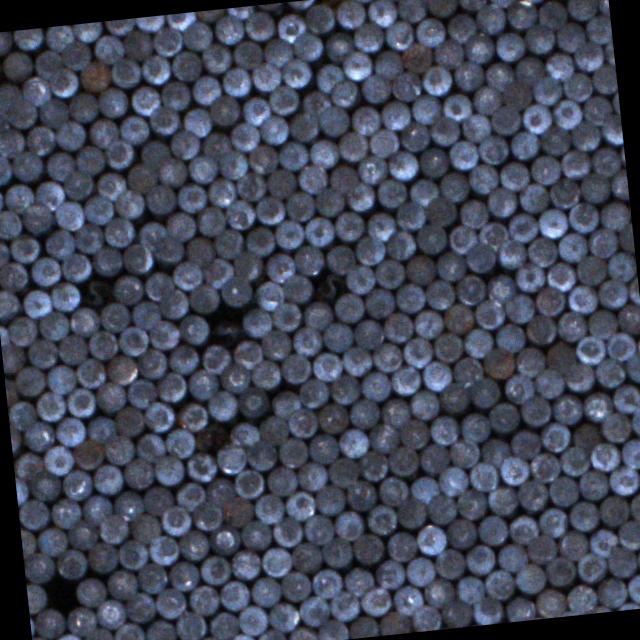tool: (126, 122, 180, 173), (34, 138, 90, 186), (562, 408, 610, 457), (542, 335, 578, 373), (323, 160, 360, 196), (422, 574, 458, 610), (388, 582, 426, 616), (413, 521, 448, 557), (103, 352, 139, 387), (323, 240, 358, 276), (368, 46, 403, 82), (106, 54, 142, 89), (90, 30, 125, 66), (19, 418, 56, 452), (173, 398, 210, 432), (308, 565, 343, 600), (260, 543, 294, 579), (350, 532, 386, 566), (382, 528, 418, 562), (96, 510, 130, 546), (88, 462, 124, 496), (543, 554, 577, 590), (474, 512, 508, 548), (504, 512, 540, 546), (185, 366, 221, 400), (242, 222, 276, 258), (482, 345, 516, 381), (432, 248, 468, 282), (346, 103, 382, 137), (154, 154, 190, 188), (128, 82, 164, 116), (138, 52, 174, 86), (250, 194, 286, 228), (263, 166, 299, 200), (315, 104, 351, 138), (241, 9, 277, 43), (263, 464, 300, 497), (340, 564, 378, 596), (267, 598, 302, 632), (247, 574, 282, 608), (166, 557, 200, 592), (319, 534, 354, 568), (207, 522, 242, 556), (363, 502, 398, 536), (126, 509, 160, 544), (386, 443, 421, 477), (574, 550, 609, 584), (546, 473, 581, 507), (456, 410, 491, 444), (52, 414, 86, 449), (234, 384, 269, 418), (268, 386, 302, 421), (357, 368, 392, 402), (389, 361, 423, 396), (165, 343, 200, 377), (380, 310, 415, 344), (300, 296, 334, 331), (110, 272, 145, 306), (363, 208, 398, 242), (453, 271, 488, 305), (383, 228, 418, 262), (476, 218, 510, 253), (537, 122, 572, 156), (530, 72, 564, 107), (322, 29, 357, 63), (85, 115, 120, 149), (94, 84, 129, 118), (239, 516, 272, 552), (269, 514, 305, 547), (598, 411, 634, 444), (92, 380, 128, 413), (308, 349, 344, 382), (362, 286, 398, 319), (472, 1, 508, 34), (178, 105, 214, 138), (298, 593, 332, 627), (134, 560, 168, 594), (198, 552, 232, 586), (228, 546, 262, 580), (444, 516, 478, 550), (54, 547, 88, 581), (85, 540, 119, 574), (394, 496, 428, 530), (424, 492, 458, 526), (252, 492, 286, 526), (344, 478, 378, 512), (48, 494, 82, 528), (28, 468, 62, 502), (60, 467, 94, 501), (121, 456, 155, 490), (437, 382, 471, 416), (606, 546, 640, 580), (526, 532, 560, 566), (566, 498, 600, 532), (455, 486, 489, 520), (486, 398, 520, 432), (20, 286, 54, 320), (142, 400, 176, 434), (328, 372, 362, 406), (229, 337, 263, 371), (260, 327, 294, 361), (320, 320, 354, 354), (332, 290, 366, 324), (400, 335, 434, 369), (494, 320, 528, 354), (554, 308, 588, 342), (586, 224, 620, 258), (445, 138, 479, 172), (458, 110, 492, 144), (550, 96, 584, 130), (378, 97, 412, 131), (438, 90, 472, 124), (482, 58, 516, 92), (540, 48, 574, 82), (462, 30, 496, 64), (102, 214, 136, 248), (1, 181, 35, 215), (32, 178, 66, 212), (10, 148, 44, 182), (117, 112, 151, 146), (204, 175, 238, 209), (186, 152, 220, 186), (306, 135, 340, 169), (219, 64, 253, 98), (248, 58, 282, 92), (120, 26, 154, 60), (190, 499, 225, 532), (408, 386, 441, 421), (517, 393, 552, 426), (28, 254, 63, 287), (493, 236, 528, 269), (524, 235, 559, 268), (356, 584, 392, 616), (156, 504, 192, 536), (368, 340, 404, 372), (518, 102, 554, 134), (80, 192, 116, 224), (500, 592, 538, 622), (105, 566, 138, 600), (289, 540, 322, 574), (115, 536, 148, 570), (177, 528, 210, 562), (332, 506, 365, 540), (396, 416, 430, 449), (41, 442, 74, 476), (471, 592, 504, 626), (482, 567, 516, 600), (496, 541, 530, 574), (597, 494, 630, 528), (516, 478, 550, 511), (549, 392, 582, 426), (153, 370, 187, 403), (218, 361, 252, 394), (350, 316, 384, 349), (262, 250, 296, 283), (90, 244, 124, 277), (120, 241, 154, 274), (183, 232, 216, 266), (300, 215, 334, 248), (421, 358, 454, 392), (430, 330, 464, 363), (442, 300, 475, 334), (596, 276, 629, 310), (424, 278, 457, 312), (544, 259, 578, 292), (516, 180, 550, 213), (548, 176, 582, 209), (385, 149, 419, 182), (419, 64, 453, 97), (144, 182, 178, 215), (76, 59, 110, 92), (246, 141, 280, 174), (167, 127, 201, 160), (208, 92, 242, 125), (274, 11, 308, 44), (29, 46, 62, 80), (438, 597, 473, 629), (416, 441, 451, 473), (315, 400, 350, 432), (175, 312, 210, 344), (200, 256, 235, 288), (402, 252, 437, 284), (372, 176, 407, 208), (396, 120, 431, 152), (431, 38, 466, 70), (7, 232, 42, 264), (20, 202, 55, 234), (297, 86, 332, 118), (0, 48, 32, 83), (33, 607, 66, 640), (187, 582, 220, 615), (36, 523, 69, 556), (366, 421, 399, 454), (348, 396, 381, 429), (534, 585, 567, 618), (486, 483, 519, 516), (49, 280, 82, 313), (59, 249, 92, 282), (68, 305, 101, 338), (514, 344, 547, 377), (394, 281, 427, 314), (436, 169, 469, 202), (528, 152, 561, 185), (451, 59, 484, 92), (572, 39, 605, 72), (552, 19, 585, 52), (124, 161, 157, 194), (148, 103, 181, 136), (66, 90, 99, 123), (19, 73, 52, 106), (194, 204, 227, 237), (212, 12, 245, 45), (180, 18, 213, 51), (206, 608, 240, 640), (64, 604, 98, 636), (434, 546, 466, 580), (464, 542, 496, 576), (73, 576, 107, 608), (283, 488, 315, 522), (313, 484, 347, 516), (376, 474, 410, 506), (17, 498, 51, 530), (110, 486, 144, 518), (296, 459, 330, 491), (152, 454, 186, 486), (185, 448, 217, 482), (244, 438, 276, 472), (307, 432, 341, 464), (70, 438, 104, 470), (378, 394, 412, 426), (564, 582, 598, 614), (454, 572, 486, 606), (588, 439, 622, 471), (508, 426, 542, 458), (468, 376, 502, 408), (532, 367, 566, 399), (562, 362, 596, 394), (592, 356, 626, 388), (8, 313, 40, 347), (84, 412, 118, 444), (34, 388, 66, 422), (64, 386, 98, 418), (277, 352, 311, 384), (42, 362, 76, 394), (200, 340, 232, 374), (54, 332, 88, 364), (187, 282, 221, 314), (218, 275, 252, 307), (462, 326, 496, 358), (574, 253, 608, 285), (596, 199, 630, 231), (454, 196, 488, 228), (498, 160, 532, 192), (336, 129, 368, 163), (408, 92, 442, 124), (327, 76, 361, 108), (492, 30, 526, 62), (112, 187, 146, 219), (54, 118, 86, 152), (312, 186, 346, 218), (176, 180, 208, 214), (276, 138, 308, 172), (286, 108, 318, 142), (158, 78, 192, 110), (170, 49, 204, 81), (150, 24, 184, 56), (447, 437, 482, 468), (499, 79, 534, 110), (173, 608, 206, 640), (237, 603, 270, 635), (153, 586, 186, 618), (218, 578, 250, 611), (280, 569, 312, 602), (374, 556, 406, 589), (404, 554, 437, 586), (65, 518, 98, 550), (222, 494, 255, 526), (326, 455, 359, 487), (356, 449, 388, 482), (213, 442, 246, 474), (427, 412, 460, 444), (103, 432, 136, 464), (595, 576, 628, 608), (514, 561, 546, 594), (558, 527, 590, 560), (577, 468, 610, 500), (538, 420, 571, 452), (580, 389, 612, 422), (38, 309, 70, 342), (296, 376, 329, 408), (124, 376, 156, 409), (249, 357, 281, 390), (115, 324, 148, 356), (129, 298, 162, 330), (212, 225, 244, 258), (586, 306, 618, 339), (473, 298, 506, 330), (532, 284, 565, 316), (566, 282, 599, 314), (484, 269, 516, 302), (556, 231, 588, 264), (506, 210, 538, 243), (536, 205, 568, 238), (393, 199, 426, 231), (343, 178, 375, 211), (466, 161, 498, 194), (589, 144, 621, 177), (470, 84, 502, 117), (512, 54, 545, 86), (72, 222, 105, 254), (62, 169, 94, 202), (24, 123, 56, 156), (163, 210, 196, 242), (222, 198, 255, 230), (216, 147, 248, 180), (314, 60, 346, 93), (190, 72, 222, 105), (60, 38, 93, 70), (95, 596, 126, 630), (24, 550, 55, 584), (414, 223, 448, 254), (357, 151, 388, 185), (580, 94, 614, 125), (505, 0, 539, 31), (53, 198, 84, 232), (260, 36, 294, 67), (329, 589, 361, 621), (124, 590, 156, 622), (146, 534, 178, 566), (302, 512, 334, 544), (438, 464, 470, 496), (80, 492, 112, 524), (276, 436, 308, 468), (163, 426, 195, 458), (286, 406, 318, 438), (536, 504, 568, 536), (608, 463, 640, 495), (498, 454, 530, 486), (478, 436, 510, 468), (502, 372, 534, 404), (13, 364, 45, 396), (114, 404, 146, 436), (135, 348, 167, 380), (242, 305, 274, 337), (253, 279, 285, 311), (280, 272, 312, 304), (230, 248, 262, 280), (292, 244, 324, 276), (344, 262, 376, 294), (273, 218, 305, 250), (525, 312, 557, 344), (414, 306, 446, 338), (513, 261, 545, 293), (606, 250, 638, 282), (464, 240, 496, 272), (579, 171, 611, 203), (408, 174, 440, 206), (416, 146, 448, 178), (570, 120, 602, 152), (428, 114, 460, 146), (488, 104, 520, 136), (560, 70, 592, 102), (359, 72, 391, 104), (399, 42, 431, 74), (352, 20, 384, 52), (412, 15, 444, 47), (303, 2, 335, 34), (42, 228, 74, 260), (73, 143, 105, 175), (37, 96, 69, 128), (284, 190, 316, 222), (228, 120, 260, 152), (279, 56, 311, 88), (230, 38, 262, 70), (407, 472, 440, 503), (292, 324, 323, 357), (354, 234, 387, 265), (450, 355, 483, 386), (574, 334, 607, 365), (604, 331, 637, 362), (422, 195, 455, 226), (291, 31, 324, 62), (231, 468, 265, 498), (24, 338, 58, 368), (146, 319, 180, 349), (270, 301, 304, 331), (376, 608, 412, 636), (174, 478, 206, 509), (339, 425, 370, 457), (587, 526, 618, 558), (468, 459, 499, 491), (528, 451, 560, 482), (558, 445, 590, 476), (206, 388, 238, 419), (75, 357, 106, 389), (86, 328, 118, 359), (99, 300, 130, 332), (505, 292, 537, 323), (447, 222, 478, 254), (567, 200, 598, 232), (485, 185, 517, 216), (366, 127, 398, 158), (340, 50, 371, 82), (95, 168, 126, 200), (47, 66, 78, 98), (235, 170, 266, 202), (296, 163, 328, 194), (257, 113, 289, 144), (239, 94, 271, 125), (201, 42, 232, 74), (202, 474, 235, 504), (227, 418, 260, 448), (610, 381, 640, 414), (156, 288, 189, 318), (332, 210, 365, 240), (476, 134, 509, 164), (199, 129, 232, 159), (535, 0, 569, 29), (390, 71, 421, 102), (267, 83, 298, 114), (12, 450, 44, 480), (142, 484, 174, 514), (133, 430, 165, 460), (256, 414, 288, 444), (342, 344, 372, 376), (374, 256, 404, 288), (560, 148, 592, 178), (522, 22, 554, 52), (444, 12, 476, 42), (102, 138, 134, 168), (5, 98, 37, 128), (409, 603, 442, 632), (383, 18, 412, 51), (150, 234, 184, 262), (582, 13, 612, 44), (142, 269, 174, 298), (333, 0, 365, 29), (136, 219, 168, 248), (364, 0, 397, 28), (171, 260, 201, 290), (508, 128, 538, 158), (0, 259, 29, 290), (7, 399, 38, 428), (590, 64, 618, 95), (615, 301, 640, 335), (42, 24, 72, 52), (1, 340, 27, 372), (615, 518, 640, 551), (347, 612, 378, 638), (144, 616, 177, 640), (618, 433, 640, 469), (599, 113, 623, 145), (0, 208, 23, 241), (0, 127, 25, 157), (316, 617, 348, 640), (394, 0, 426, 23), (26, 581, 48, 613), (0, 287, 22, 319), (0, 78, 22, 109), (11, 28, 42, 50), (112, 620, 146, 640), (162, 12, 196, 32), (607, 168, 629, 198), (70, 22, 102, 42), (566, 0, 597, 20), (104, 18, 136, 37), (423, 0, 458, 17), (20, 525, 38, 558), (285, 622, 318, 640), (616, 222, 634, 253), (623, 351, 640, 382), (133, 15, 164, 32), (625, 570, 640, 604), (15, 474, 30, 506), (81, 626, 115, 640), (254, 626, 287, 640), (4, 374, 18, 406), (0, 154, 14, 186), (627, 489, 640, 522), (455, 0, 489, 12), (0, 30, 14, 55), (0, 235, 10, 268), (224, 632, 257, 640), (52, 632, 84, 640), (0, 105, 8, 137), (632, 406, 640, 437), (193, 634, 226, 640), (486, 0, 516, 6), (0, 183, 5, 215), (31, 633, 53, 640)
tool_b: (194, 421, 231, 456), (310, 270, 346, 302), (79, 277, 114, 309), (211, 315, 243, 346)
void: (42, 573, 78, 615)
